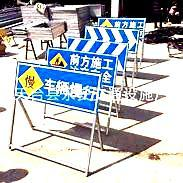sign: (14, 71, 101, 104), (46, 50, 116, 70), (97, 18, 145, 29)
